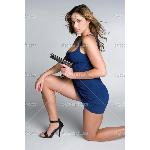Pistol: (48, 52, 72, 80)
